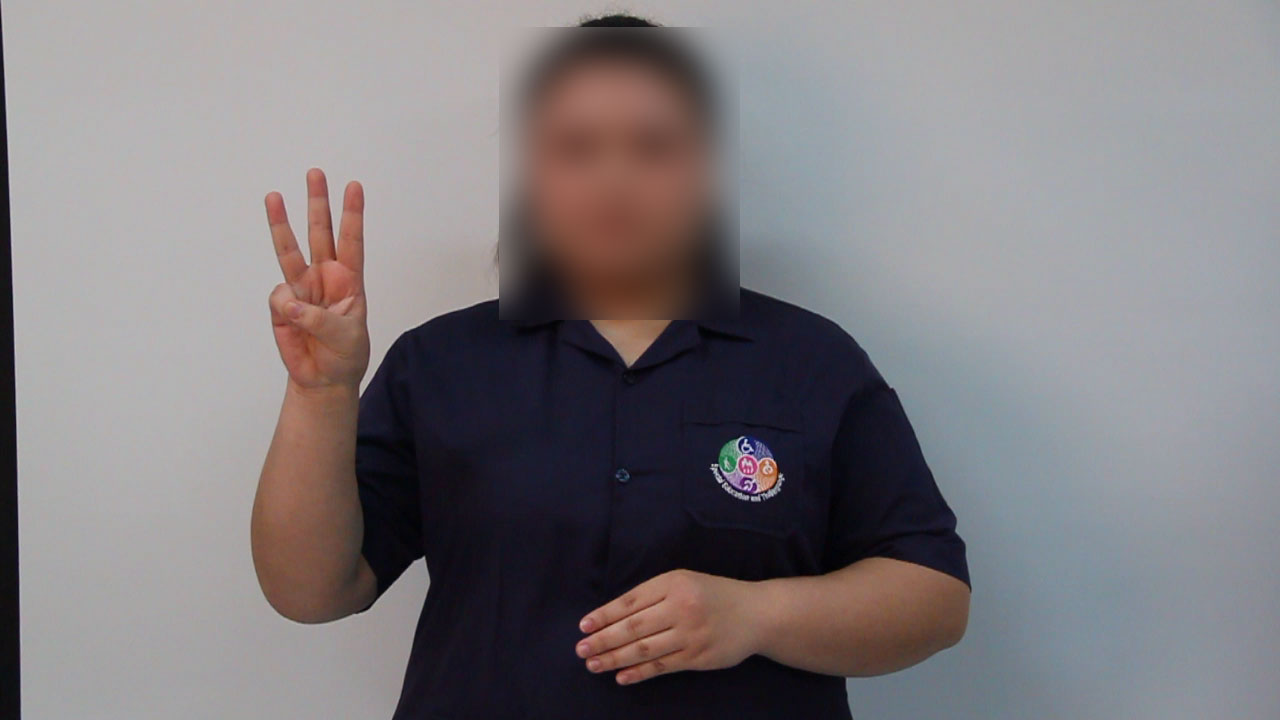wor: (253, 161, 379, 402)
